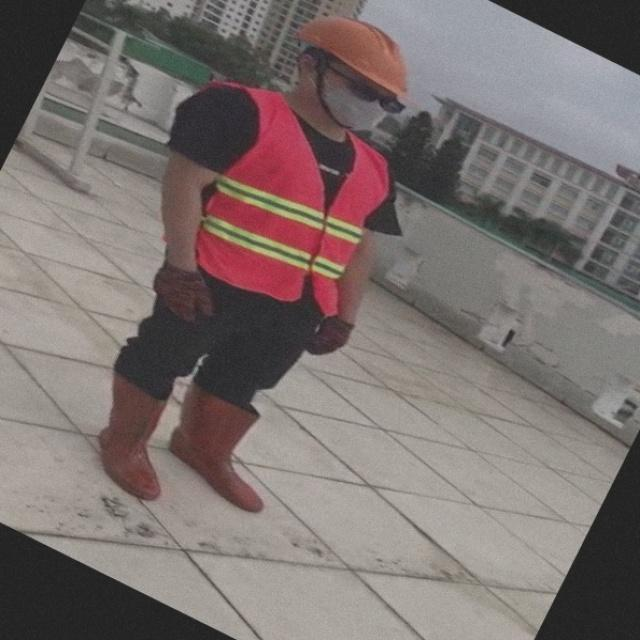Capacete: (296, 16, 407, 97)
Colete: (197, 87, 388, 314)
Oculos: (327, 65, 404, 113)
